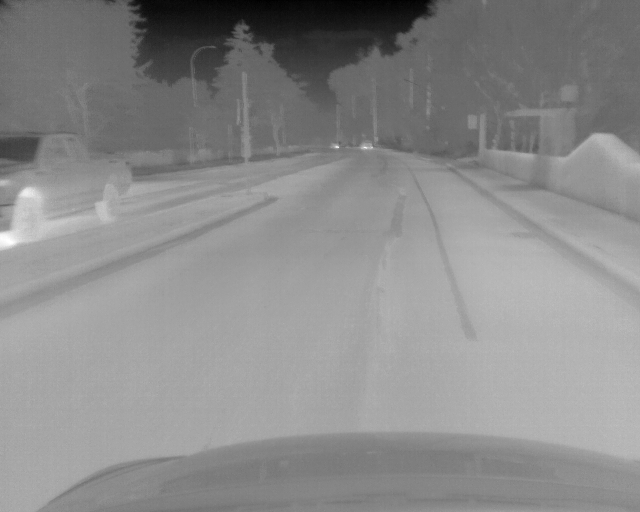car: (2, 134, 131, 247), (357, 138, 374, 153), (329, 142, 339, 150)
